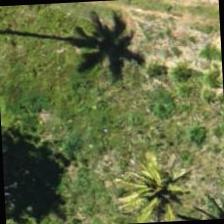Kelapa_Sawit: (111, 153, 205, 223)
